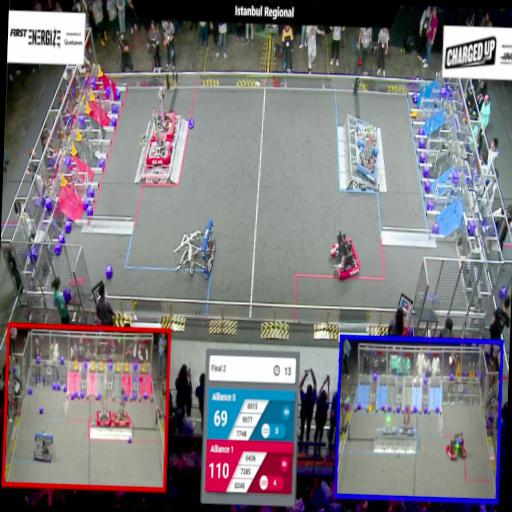robot: (172, 213, 216, 281), (326, 230, 365, 282), (150, 82, 176, 140), (352, 118, 381, 156), (144, 134, 173, 170), (94, 382, 114, 429), (356, 144, 379, 182), (32, 428, 54, 466), (112, 388, 131, 428), (444, 430, 468, 461), (398, 400, 414, 438), (381, 414, 398, 438)
